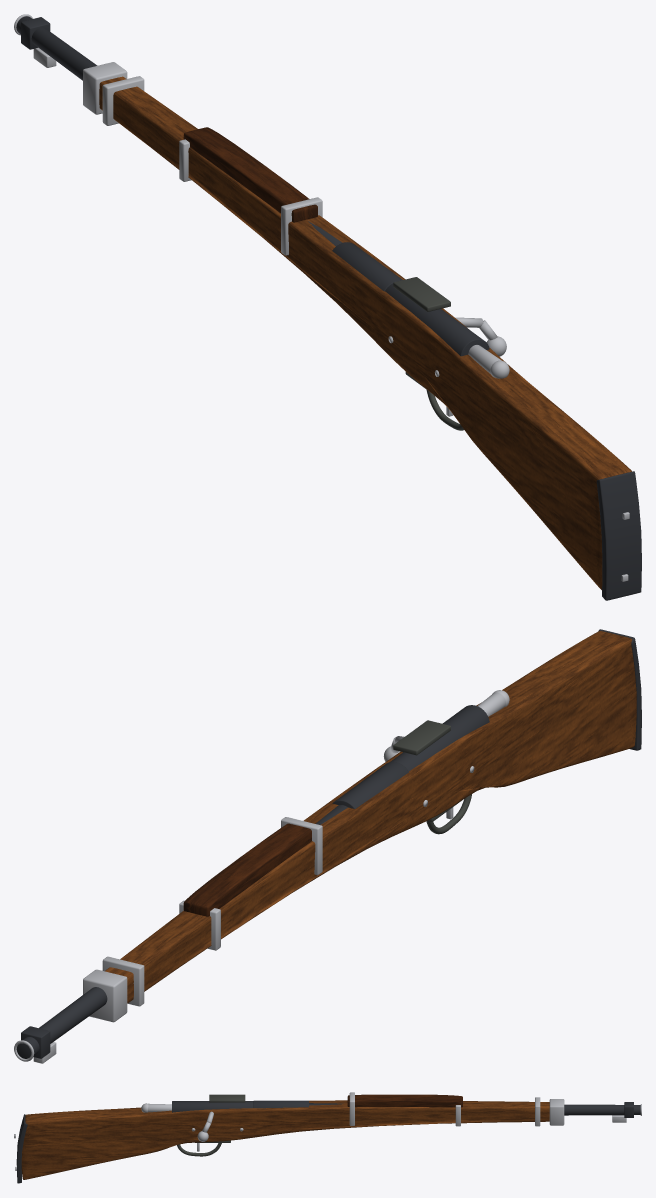
Rendered from mosin.glb.
3 renders of one model, top to bottom at view 1: azimuth 30°, elevation 25°; view 2: azimuth 150°, elevation 25°; view 3: azimuth 270°, elevation 25°, orthographic. The views are drawn at different scales.
Parts seen in each view (by area): view 1: stock, butt_plate, handguard, receiver, barrel, receiver_ring, nose_cap, clip_guide, band_2; view 2: stock, handguard, barrel, receiver, nose_cap, receiver_ring, clip_guide, band_2, butt_plate, band_0; view 3: stock, handguard, barrel, receiver, receiver_ring, nose_cap, butt_plate, clip_guide, trigger_guard, band_0, cocking_piece, band_2 (+1 smaller).
Boxes of the visible parts, x1,y1,x2,y2 form: stock: [99, 76, 631, 589]; butt_plate: [596, 471, 641, 600]; handguard: [183, 127, 317, 222]; receiver: [385, 283, 489, 356]; barrel: [16, 16, 342, 246]; receiver_ring: [332, 242, 402, 291]; nose_cap: [83, 62, 127, 114]; clip_guide: [393, 277, 450, 311]; band_2: [102, 76, 144, 125]; stock: [105, 631, 636, 1003]; handguard: [183, 823, 311, 916]; barrel: [16, 805, 347, 1058]; receiver: [390, 705, 489, 771]; nose_cap: [83, 969, 127, 1022]; receiver_ring: [332, 761, 408, 808]; clip_guide: [393, 720, 450, 755]; band_2: [102, 956, 144, 1006]; butt_plate: [598, 629, 641, 750]; band_0: [281, 817, 322, 875]; stock: [21, 1100, 549, 1179]; handguard: [347, 1094, 462, 1107]; barrel: [309, 1103, 640, 1115]; receiver: [172, 1101, 253, 1112]; receiver_ring: [253, 1100, 308, 1108]; nose_cap: [549, 1099, 564, 1125]; butt_plate: [16, 1114, 27, 1183]; clip_guide: [209, 1094, 245, 1102]; trigger_guard: [177, 1143, 221, 1156]; band_0: [349, 1092, 354, 1125]; cocking_piece: [148, 1103, 171, 1112]; band_2: [535, 1097, 540, 1126].
Size of the model in its own units: 0.0985 by 0.1886 by 1.3.
Materials: 5 (2 with a texture image).
